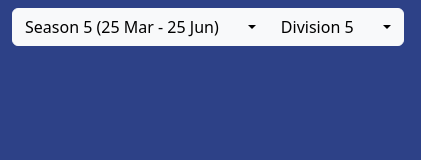
Test case: DivisionControls › interactivity › common › navigates correctly when mode overridden
Click the 1st button with class "dropdown-toggle": (250, 27) left=231, top=8, right=269, bottom=46
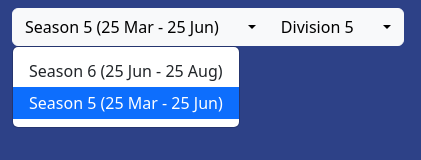
Click the button "Season 5 (25 Mar - 25 Jun)": (122, 27) left=12, top=8, right=232, bottom=46
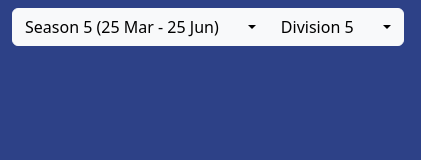
Now the menu with class "show" is gone
